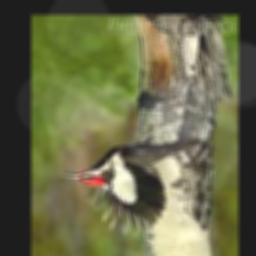Woodpecker: (60, 133, 207, 235)
